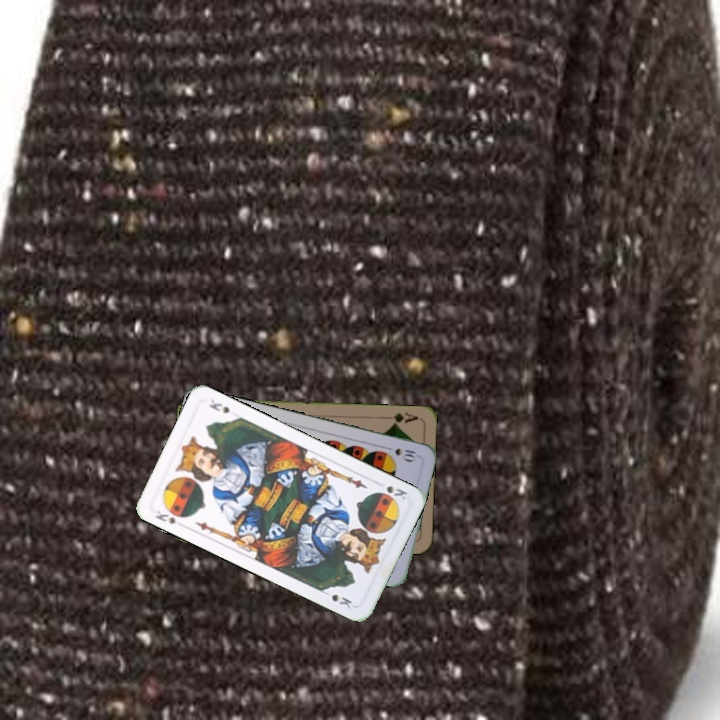GA: (380, 408, 421, 428)
S10: (381, 442, 421, 464)
SK: (372, 478, 410, 502), (151, 506, 178, 527)
